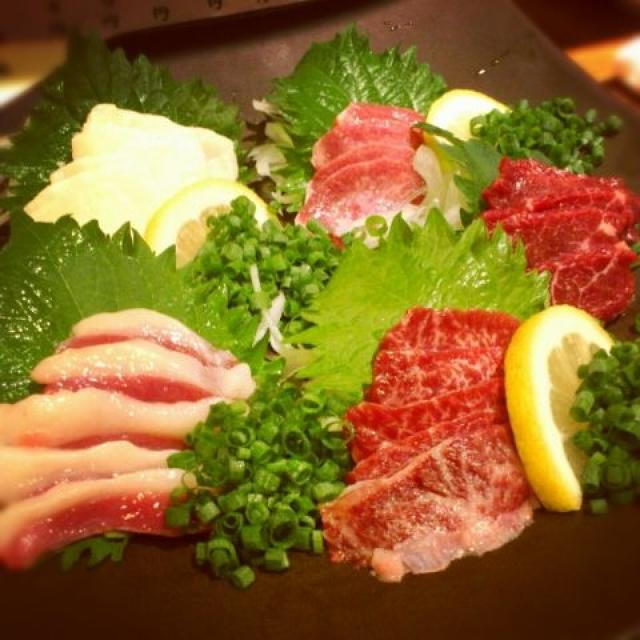刺身生食: (4, 5, 633, 616)
